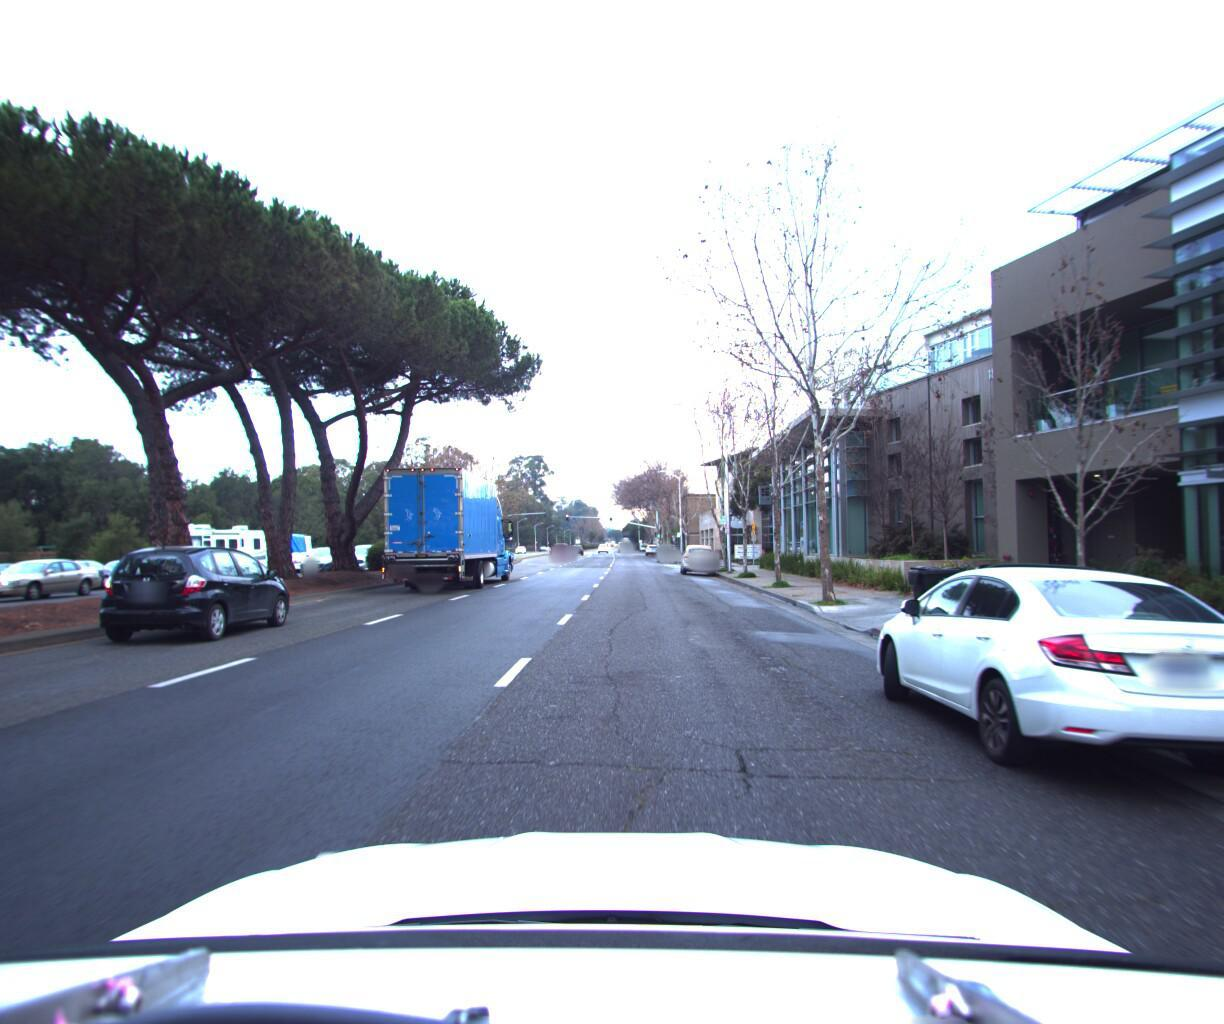car: (847, 550, 1224, 812), (96, 545, 300, 650), (0, 556, 108, 607), (81, 554, 169, 587), (0, 560, 54, 603), (335, 539, 401, 571), (296, 540, 352, 569), (681, 537, 715, 571), (657, 536, 677, 556), (547, 539, 570, 555)
other_vehicle: (142, 513, 274, 581), (239, 525, 320, 579)
truck: (361, 455, 522, 598)
